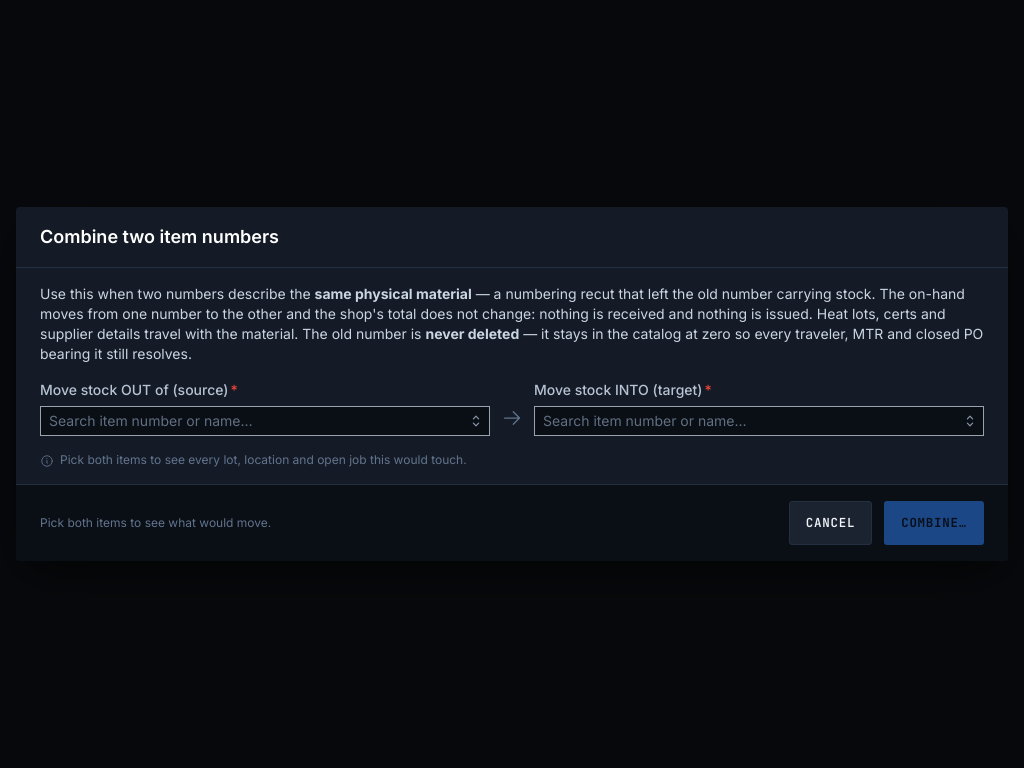
Scenario: CombineInventoryDialog — what the preview puts on screen › renders both sides of the fold: on-hand, lot, location, unit and cost
Click the dropdown labelled "Move stock OUT of (source)*".
click(265, 421)  # box [40, 406, 490, 436]
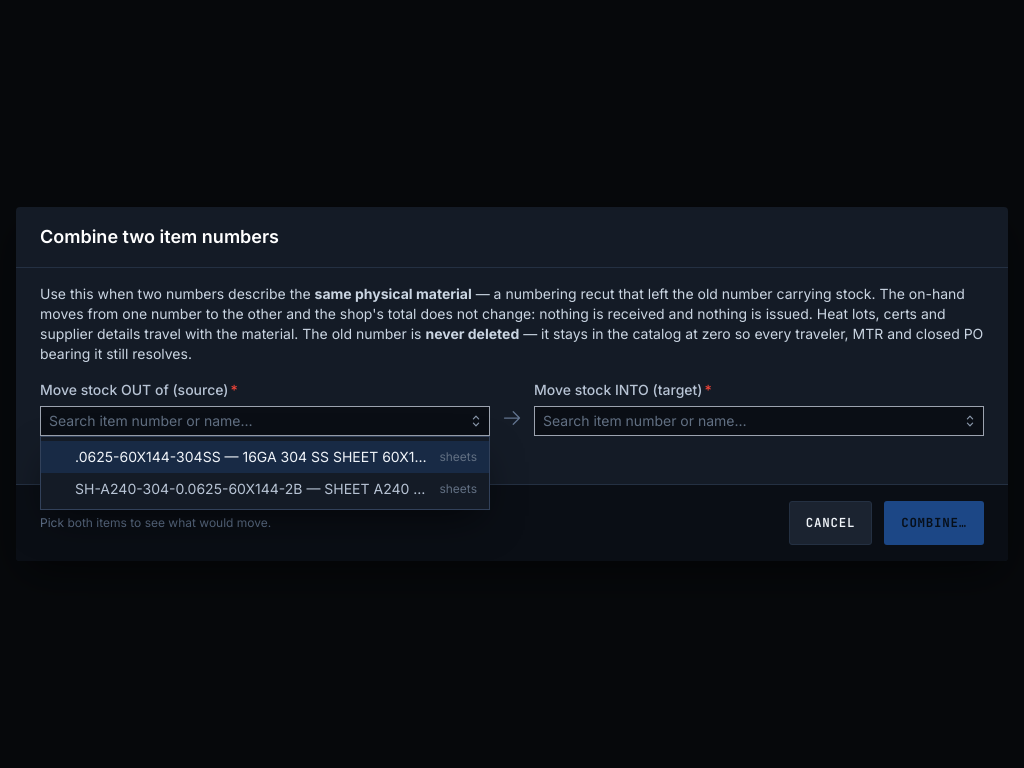
Click the option ".0625-60X144-304SS — 16GA 304 SS SHEET 60X144 sheets".
click(265, 457)  # box [41, 441, 489, 473]
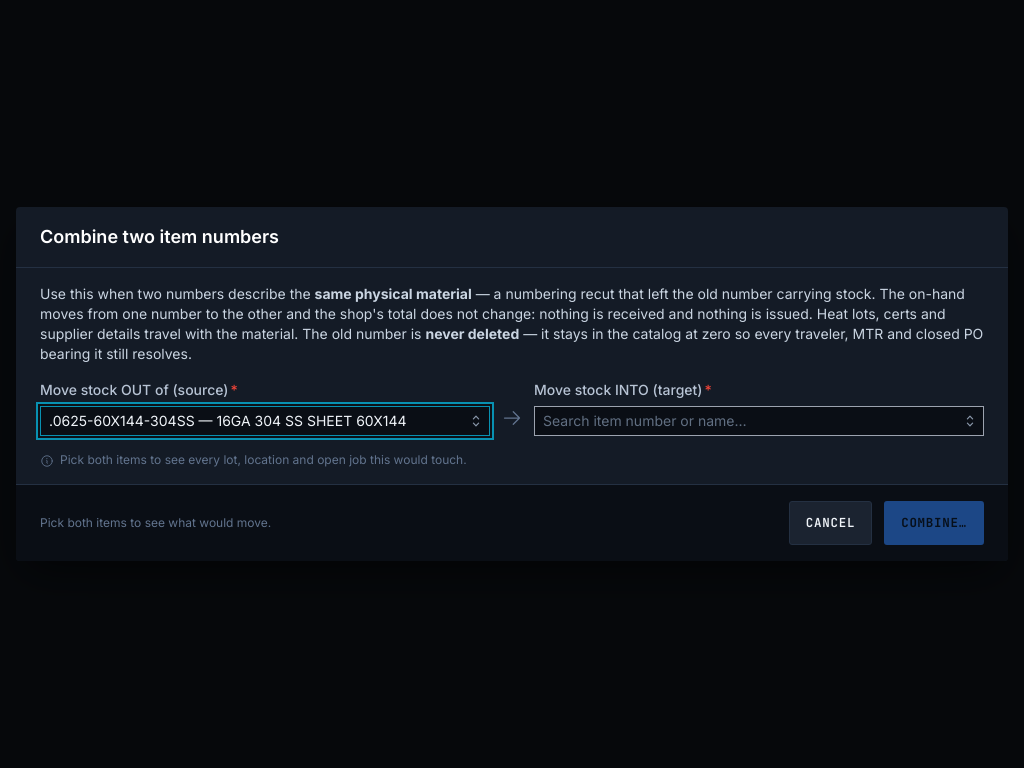
Click the dropdown labelled "Move stock INTO (target)*".
click(759, 421)  # box [534, 406, 984, 436]
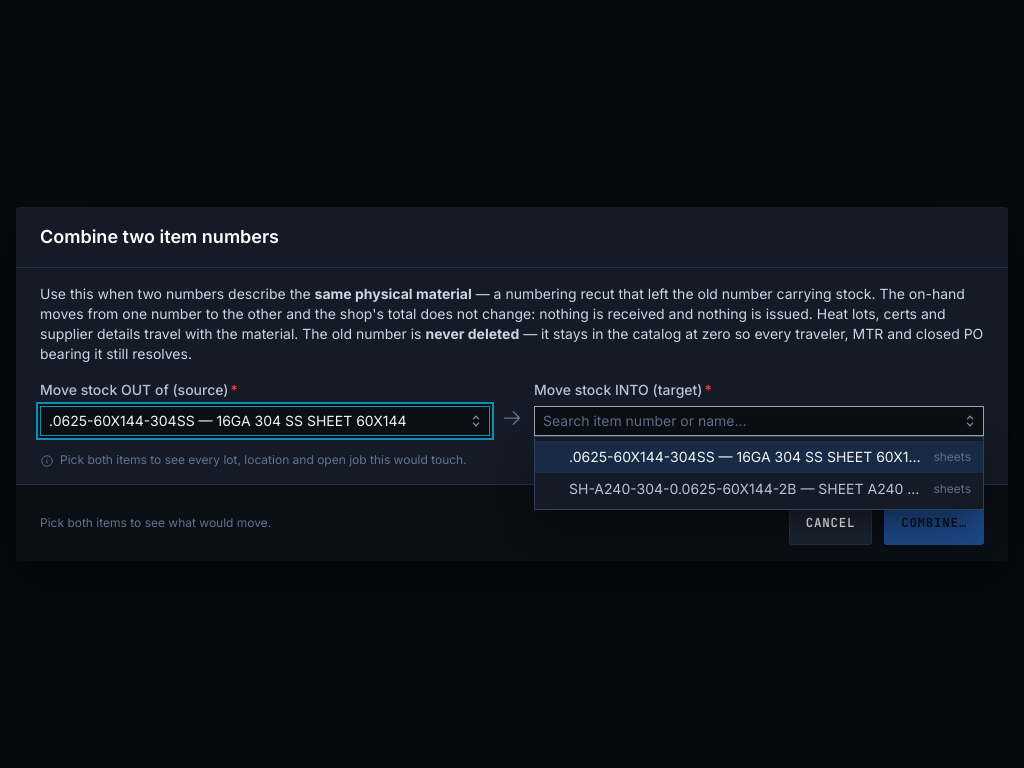
Click the option "SH-A240-304".
click(759, 489)  # box [535, 473, 983, 505]
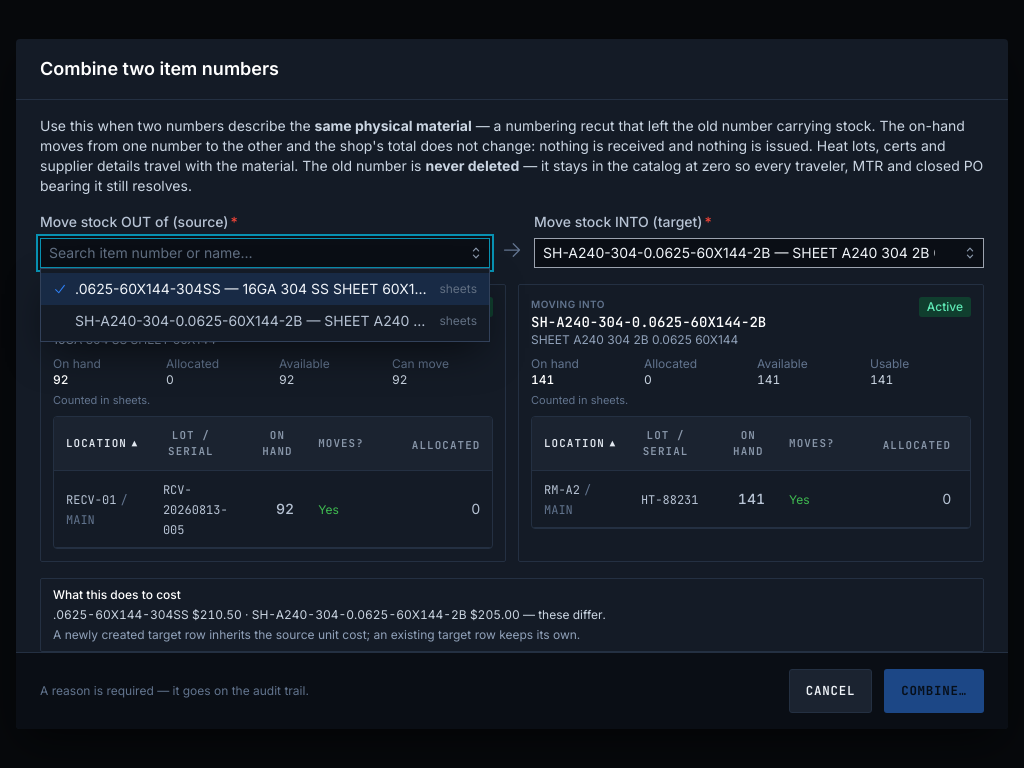
Now the element with test id "combine-source-summary" is shown, box [40, 284, 506, 562]
Now the text ".0625-60X144-304SS" is shown, box [53, 312, 216, 332]
Now the 1st text "92" is shown, box [53, 372, 69, 386]
